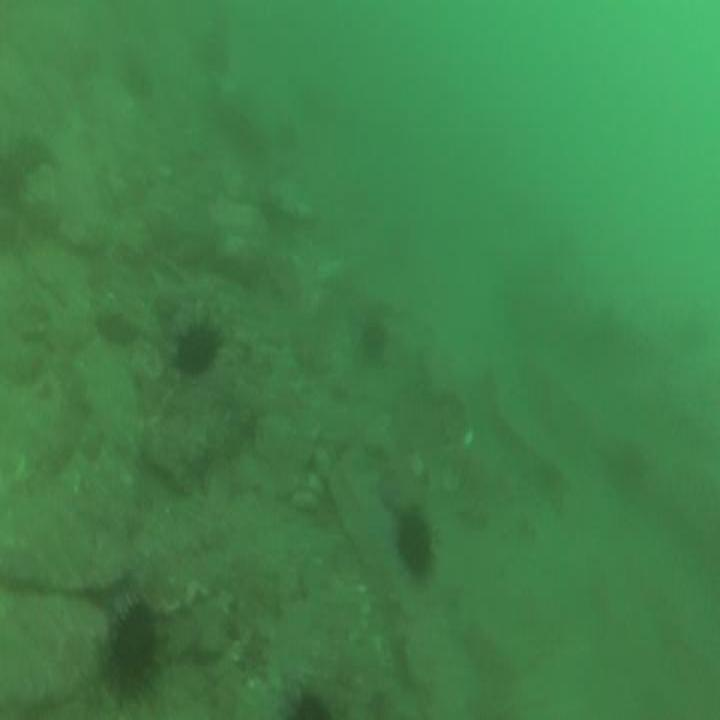echinus: (103, 603, 154, 702), (395, 512, 436, 574), (173, 327, 216, 370), (357, 316, 388, 364)
